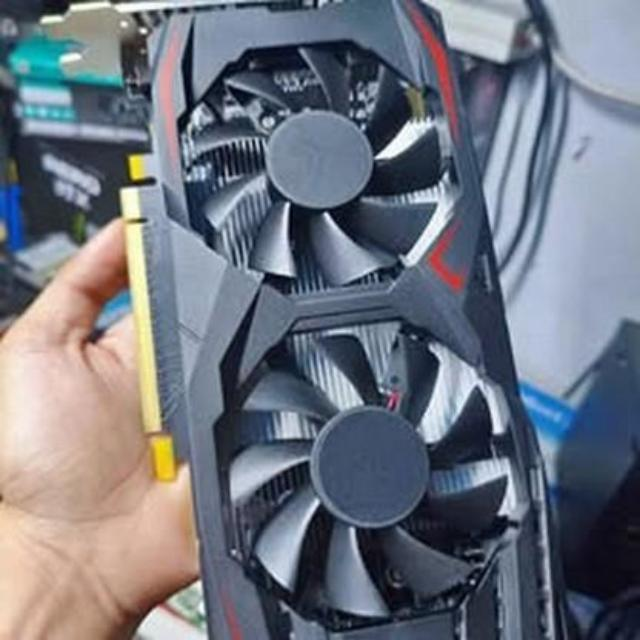GPU: (100, 0, 562, 640)
